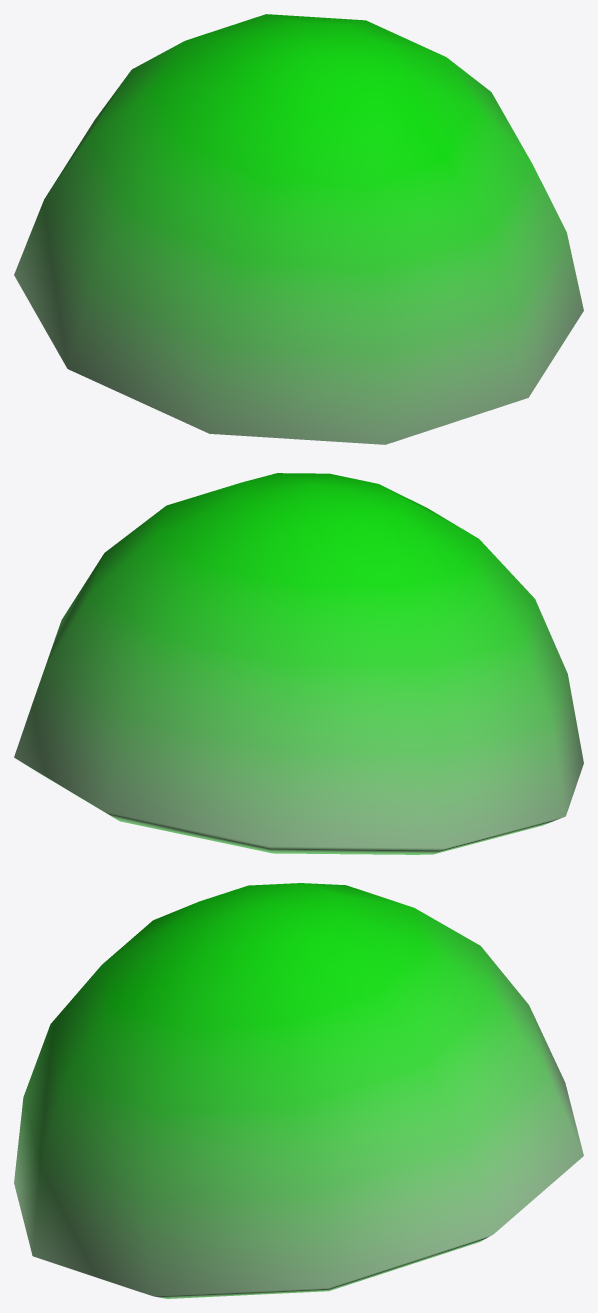
The model's file is Air_Balloon_Camera_Shake.fbx.
3 renders of one model, top to bottom at view 1: azimuth 30°, elevation 25°; view 2: azimuth 150°, elevation 25°; view 3: azimuth 270°, elevation 25°, orthographic. The views are drawn at different scales.
Parts seen in each view (by area): view 1: skyPlane; view 2: skyPlane; view 3: skyPlane.
Boxes of the visible parts, bbox=[...] form: skyPlane: bbox=[14, 14, 583, 444]; skyPlane: bbox=[14, 473, 583, 854]; skyPlane: bbox=[14, 883, 583, 1298].
Size of the model in its own units: 1165 by 693 by 1132.
